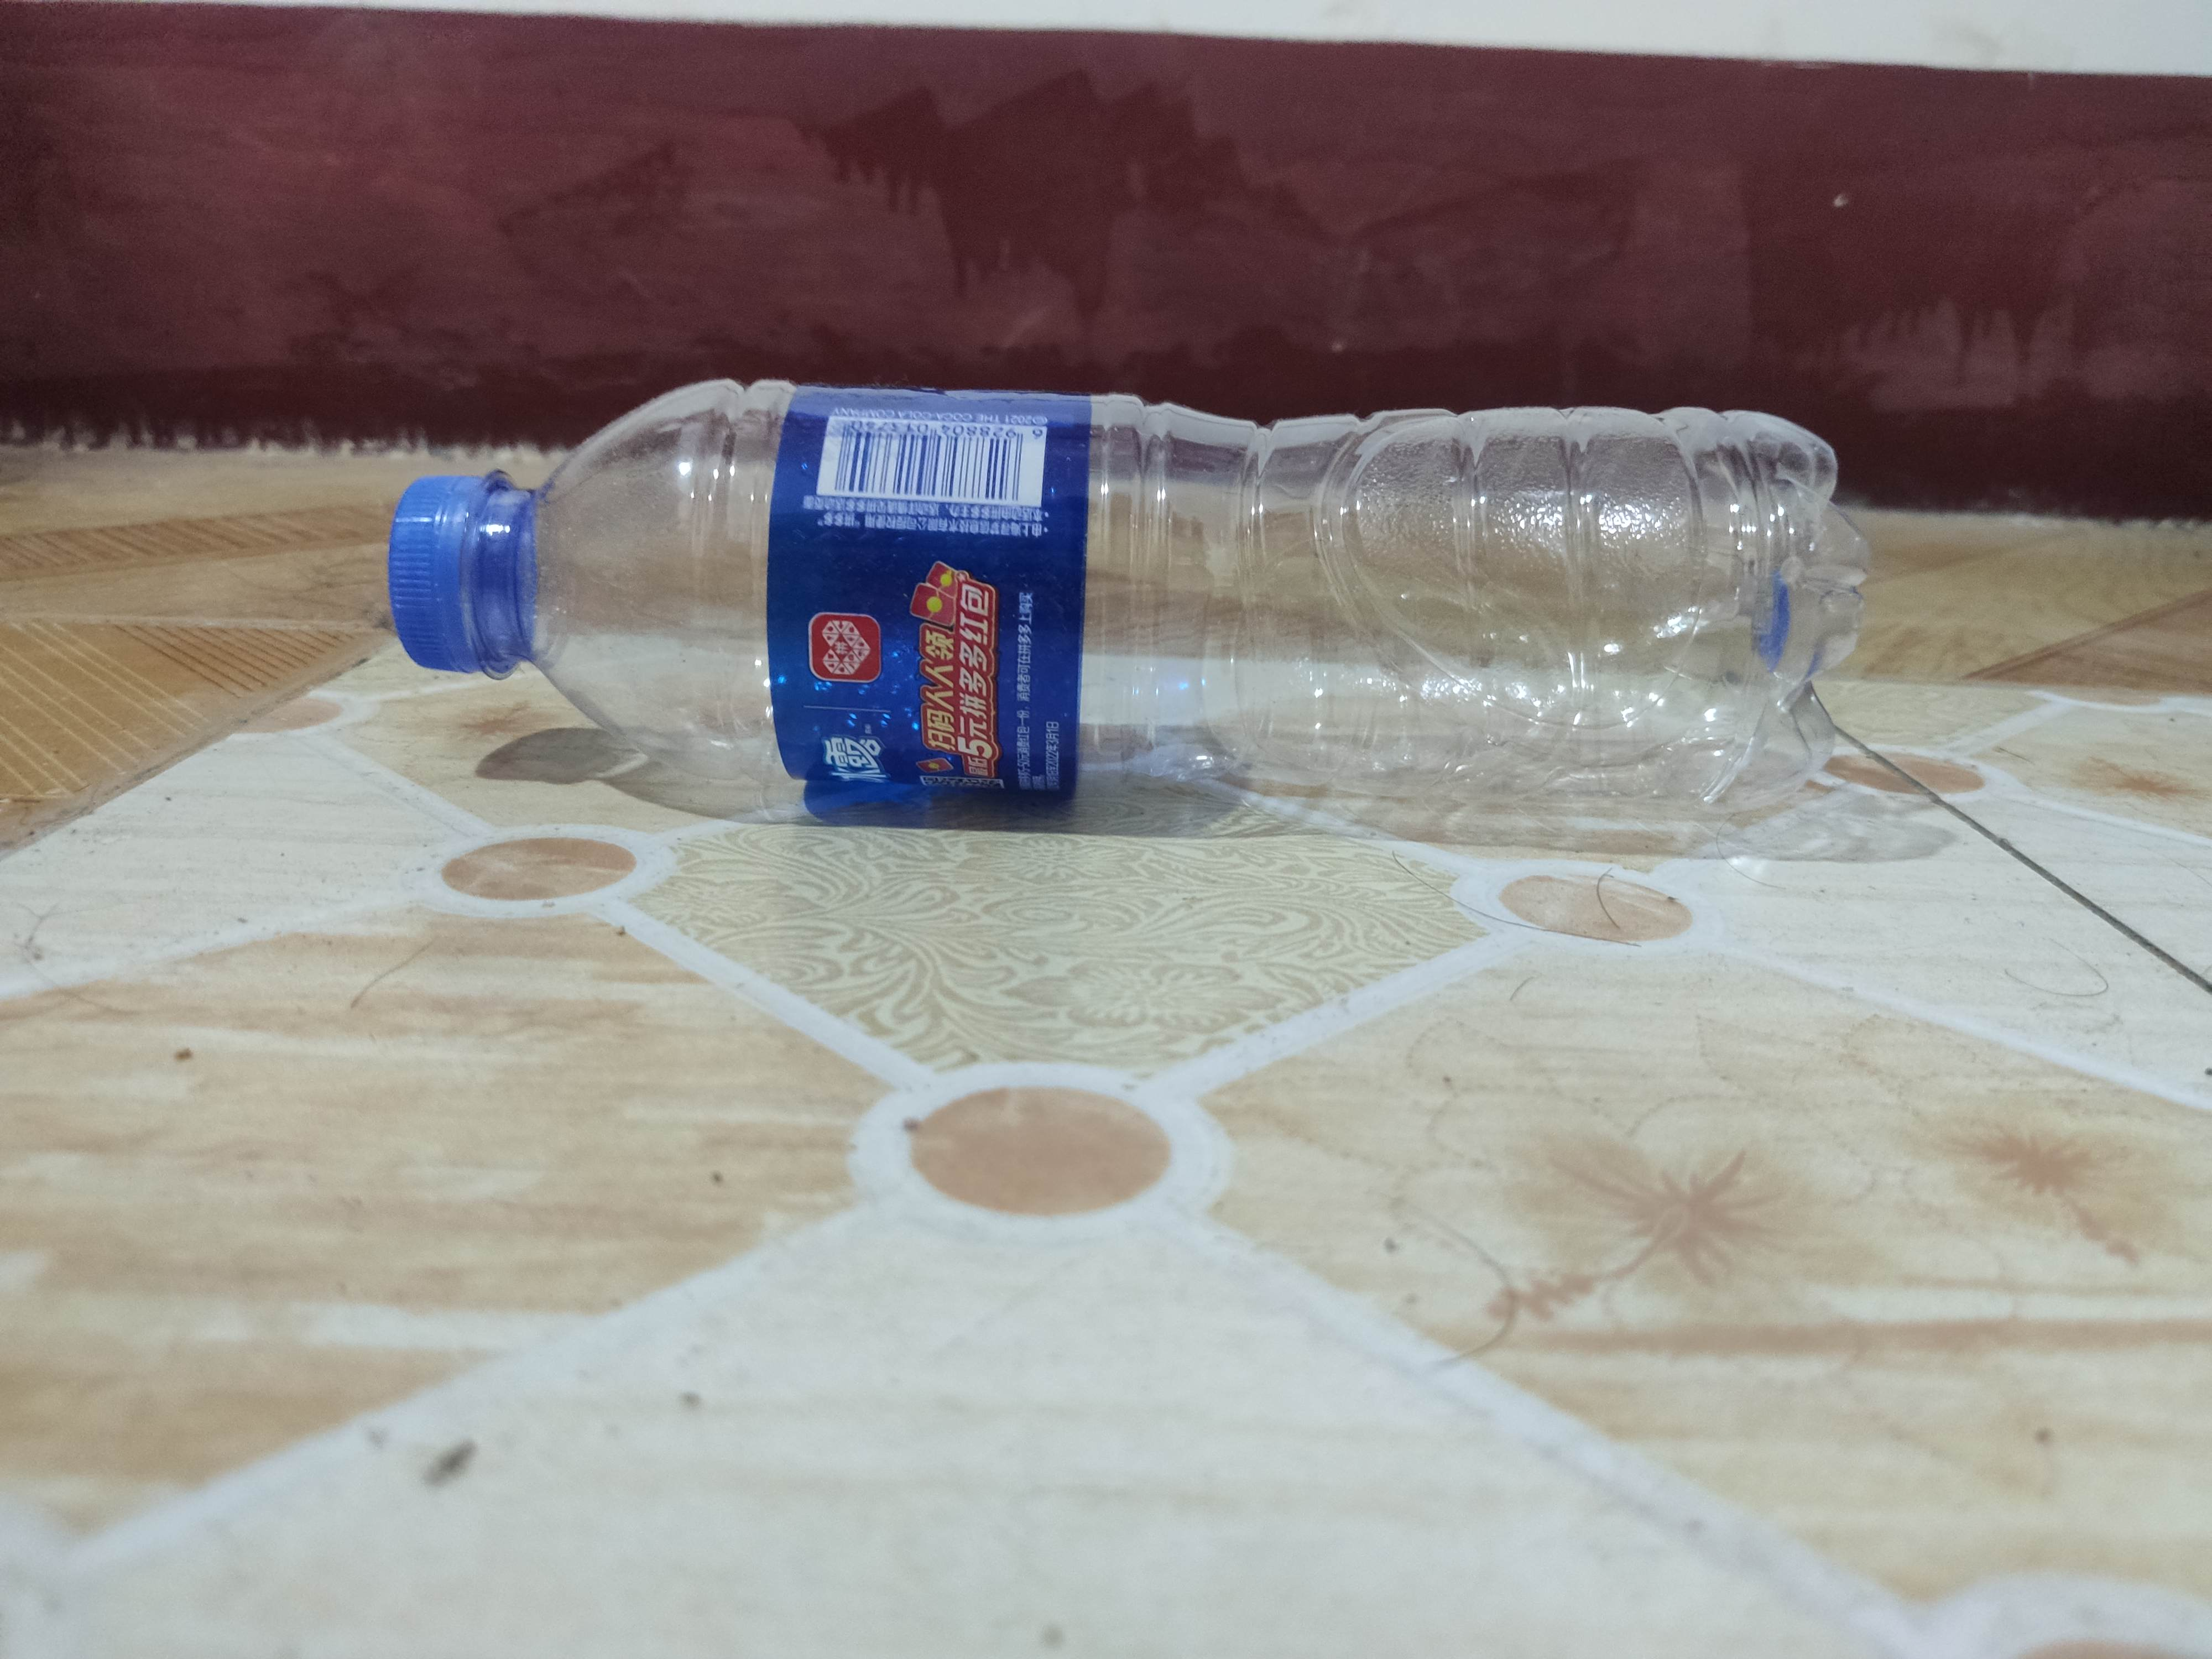Plastic Bottle: (383, 371, 1878, 830)
